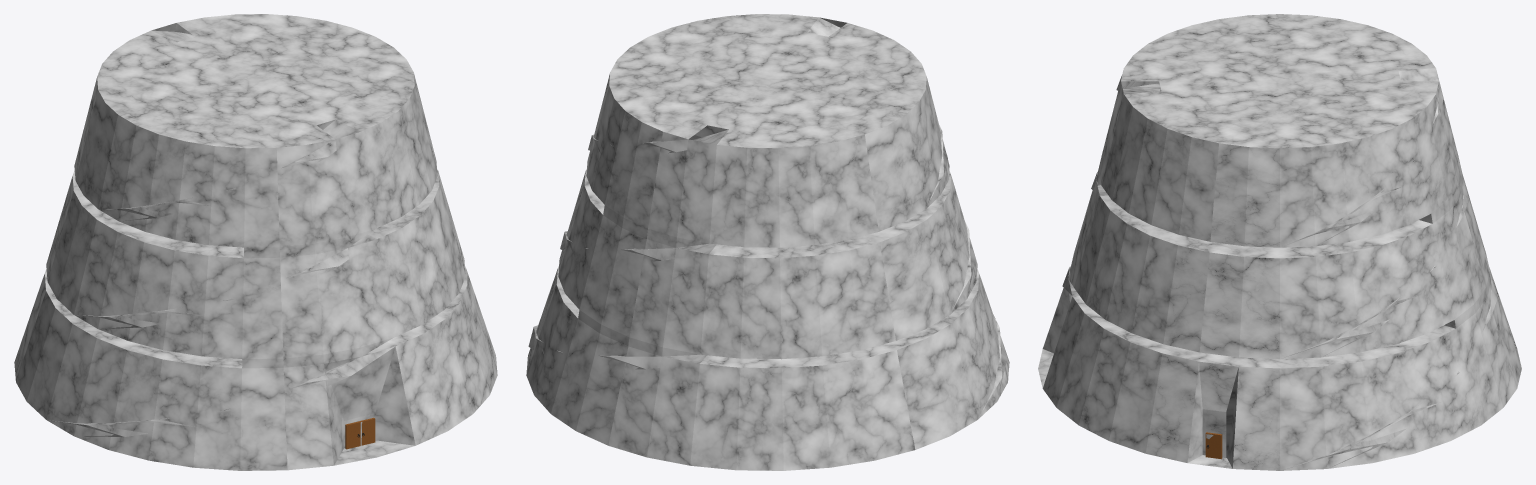
Rendered from LightHouseInner01.dae.
3 views of the same model, side by side, from view 1: azimuth 30°, elevation 25°; view 2: azimuth 150°, elevation 25°; view 3: azimuth 270°, elevation 25° (orthographic).
Visible parts, largest first — view 1: LightHouseInner; view 2: LightHouseInner; view 3: LightHouseInner.
Boxes of the visible parts, box(x1,y1,x2,y2) form: LightHouseInner: box(14, 14, 497, 470); LightHouseInner: box(526, 14, 1009, 470); LightHouseInner: box(1038, 14, 1521, 470).
Bounding box in the file's own units: 46.18 × 46.18 × 31.18.
3 materials, 2 textured.
